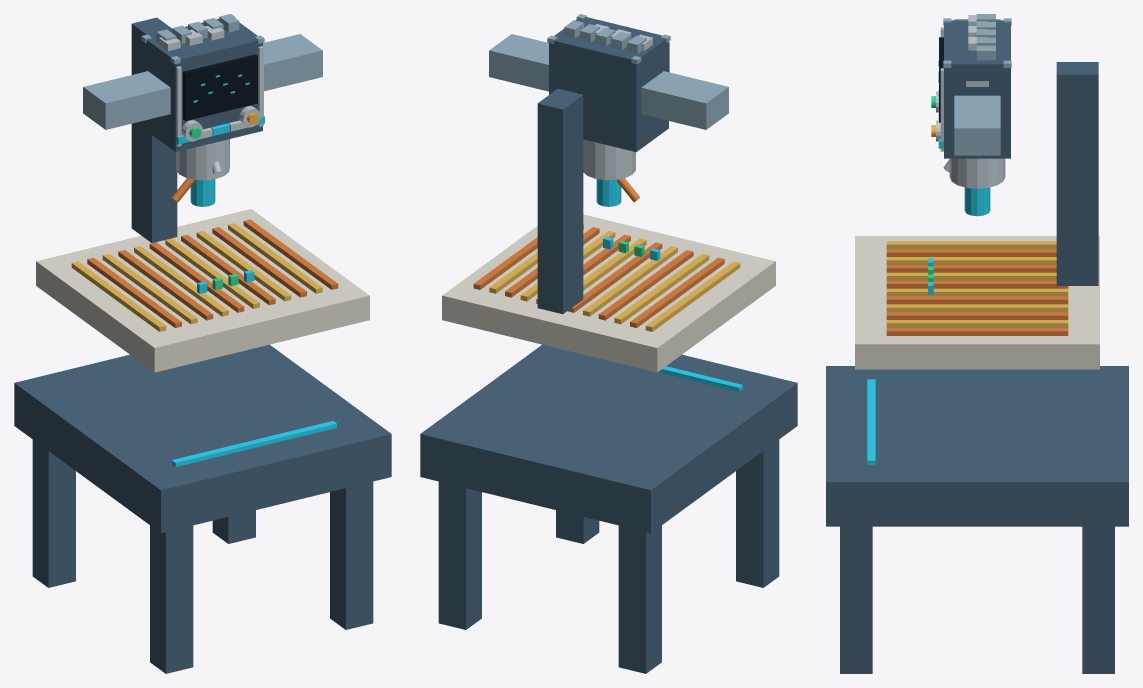
The model's file is 55_L78_SurfaceMoistureInspectionAnalyzer.fbx.
The picture shows the model from 3 angles, left to right: view 1: azimuth 30°, elevation 25°; view 2: azimuth 150°, elevation 25°; view 3: azimuth 270°, elevation 25°; orthographic projection. The views are drawn at different scales.
Visible parts, largest first — view 1: SurfaceMoistureInspectionAnalyzer; view 2: SurfaceMoistureInspectionAnalyzer; view 3: SurfaceMoistureInspectionAnalyzer.
Part boxes in pixels (x1,y1,x2,y2): SurfaceMoistureInspectionAnalyzer: (14,14,391,673); SurfaceMoistureInspectionAnalyzer: (420,14,797,673); SurfaceMoistureInspectionAnalyzer: (826,14,1128,673).
Bounding box in the file's own units: 118 × 279 × 130.
